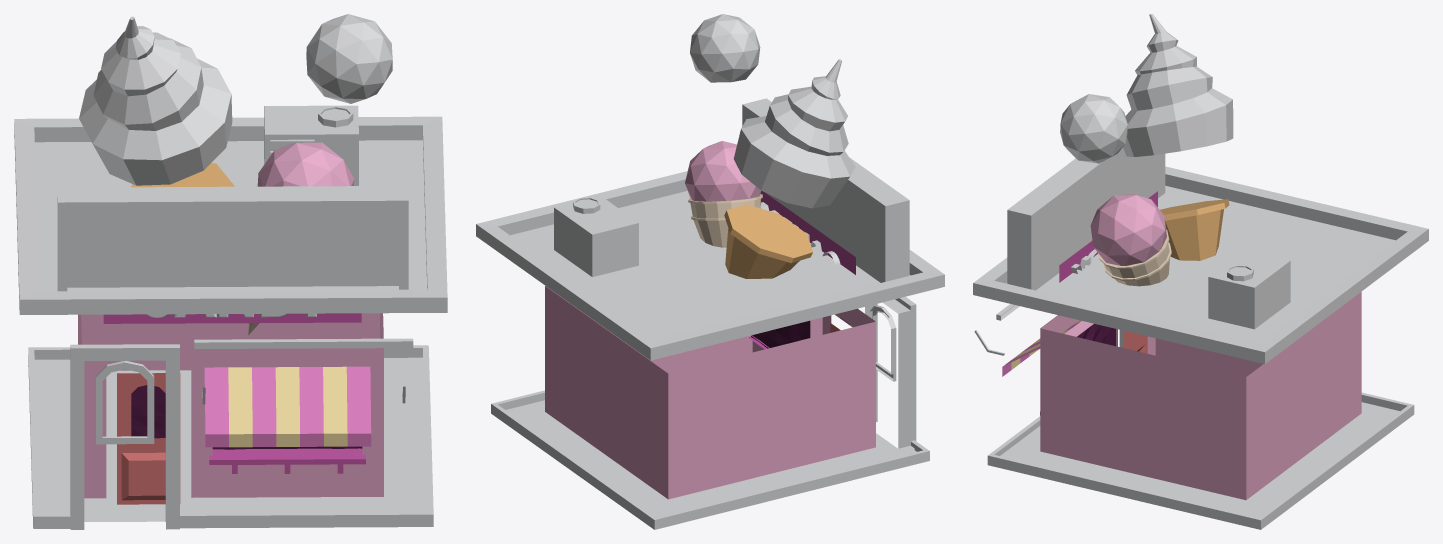
Rendered from canele.glb.
3 views of the same model, side by side, from view 1: azimuth 30°, elevation 25°; view 2: azimuth 150°, elevation 25°; view 3: azimuth 270°, elevation 25° (orthographic). The views are drawn at different scales.
Visible parts, largest first — view 1: Object_11, Object_8, Object_2, Object_3, Object_9, Object_7, Object_4.001, Object_5; view 2: Object_11, Object_8, Object_5, Object_6, Object_9, Object_4.001; view 3: Object_11, Object_8, Object_5, Object_6, Object_9, Object_4.001.
Boxes of the visible parts, x1,y1,x2,y2 form: Object_11: [14, 14, 447, 529]; Object_8: [78, 142, 383, 498]; Object_2: [204, 366, 371, 447]; Object_3: [228, 366, 347, 447]; Object_9: [103, 313, 365, 473]; Object_7: [117, 373, 180, 504]; Object_4.001: [131, 385, 362, 449]; Object_5: [131, 163, 234, 187]; Object_11: [476, 14, 944, 529]; Object_8: [545, 141, 875, 499]; Object_5: [724, 204, 812, 278]; Object_6: [688, 194, 762, 247]; Object_9: [749, 191, 855, 349]; Object_4.001: [751, 320, 810, 348]; Object_11: [973, 14, 1428, 529]; Object_8: [1040, 194, 1361, 500]; Object_5: [1160, 199, 1229, 260]; Object_6: [1098, 229, 1171, 286]; Object_9: [1040, 191, 1157, 415]; Object_4.001: [1077, 323, 1115, 346].
Size of the model in its own units: 33.65 by 30.66 by 33.65.
